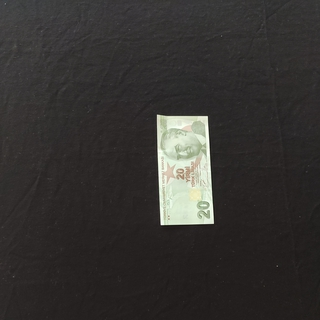20TLFront: (156, 114, 214, 226)
